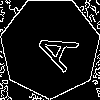A: (25, 22, 80, 73)
